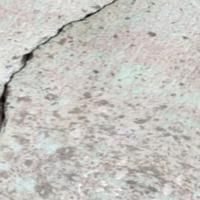crack: (0, 0, 124, 133)
